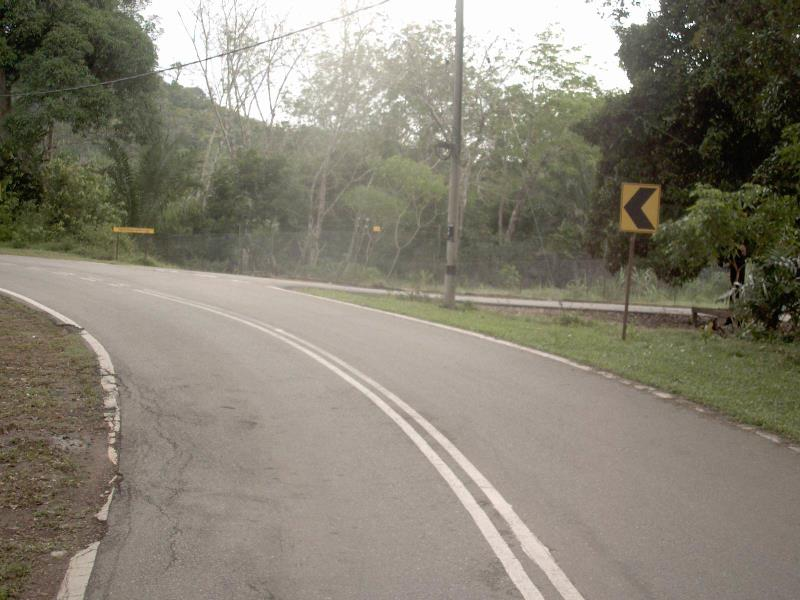traffic_sign: (610, 172, 671, 243)
